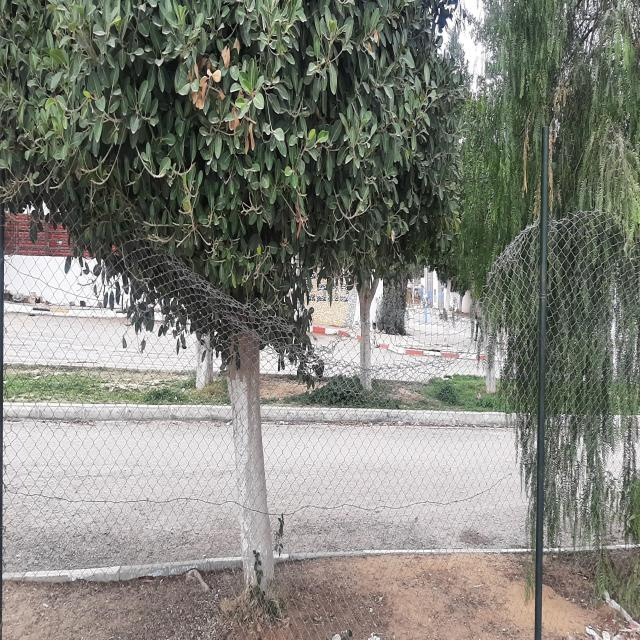fence line: (163, 192, 535, 355)
